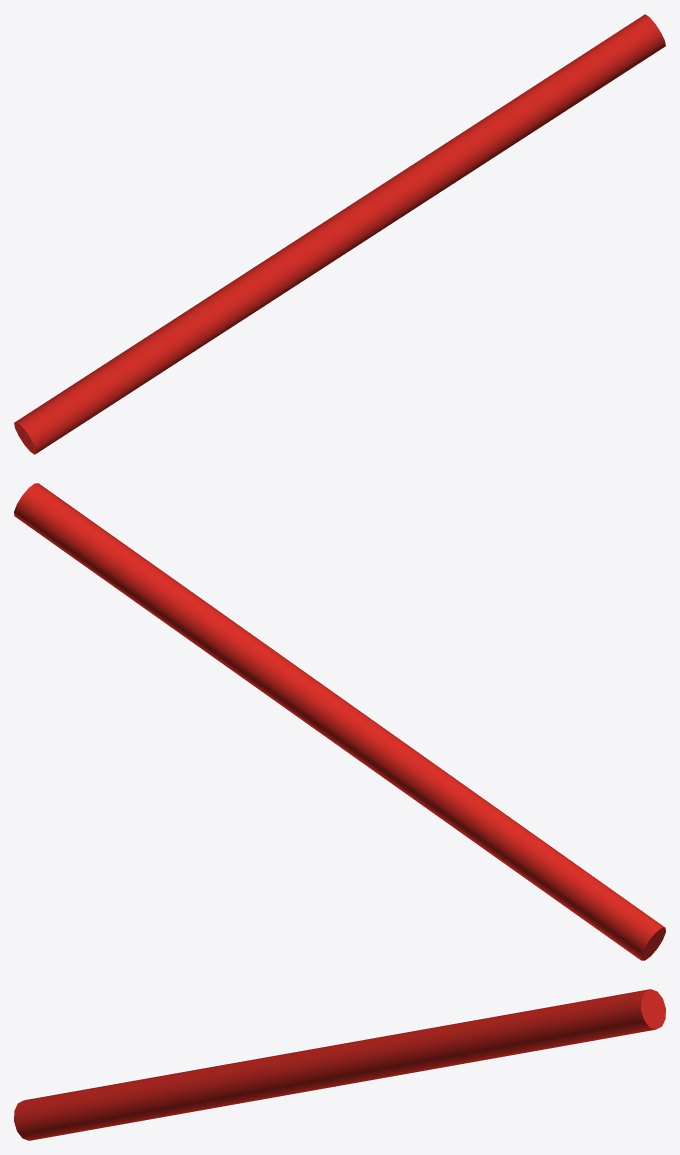
Rendered from front_left_arm.obj.
3 views of the same model, one above another, from view 1: azimuth 30°, elevation 25°; view 2: azimuth 150°, elevation 25°; view 3: azimuth 330°, elevation 25° (orthographic). The views are drawn at different scales.
Visible parts, largest first — view 1: front_left_arm; view 2: front_left_arm; view 3: front_left_arm.
Boxes of the visible parts, x1,y1,x2,y2 form: front_left_arm: (14, 14, 665, 454); front_left_arm: (14, 483, 665, 960); front_left_arm: (14, 989, 665, 1140).
Size of the model in its own units: 0.4057 by 0.1845 by 0.0367.
